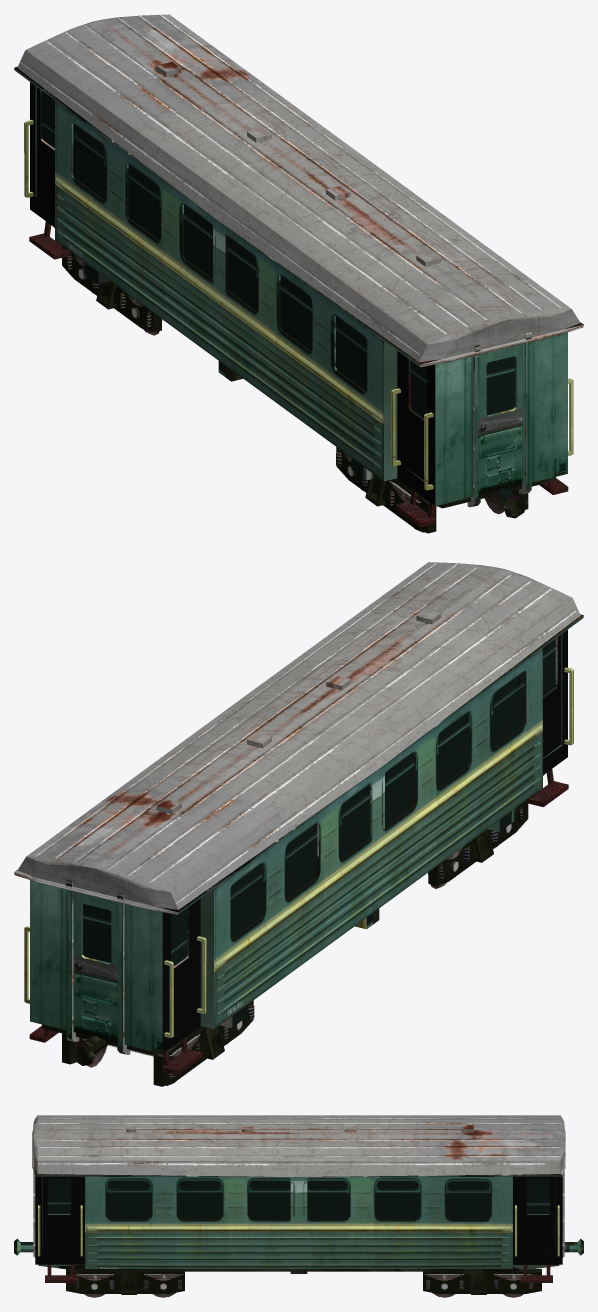
3 renders of one model, top to bottom at view 1: azimuth 30°, elevation 25°; view 2: azimuth 150°, elevation 25°; view 3: azimuth 270°, elevation 25°, orthographic. The views are drawn at different scales.
Parts seen in each view (by area): view 1: pv40; view 2: pv40; view 3: pv40.
Part boxes in pixels (left/top/right/bottom): pv40: left=14, top=14, right=583, bottom=533; pv40: left=14, top=562, right=583, bottom=1086; pv40: left=14, top=1115, right=583, bottom=1297.
Bounding box in the file's own units: 2.35 × 3.31 × 10.74.
1 material, 1 textured.
